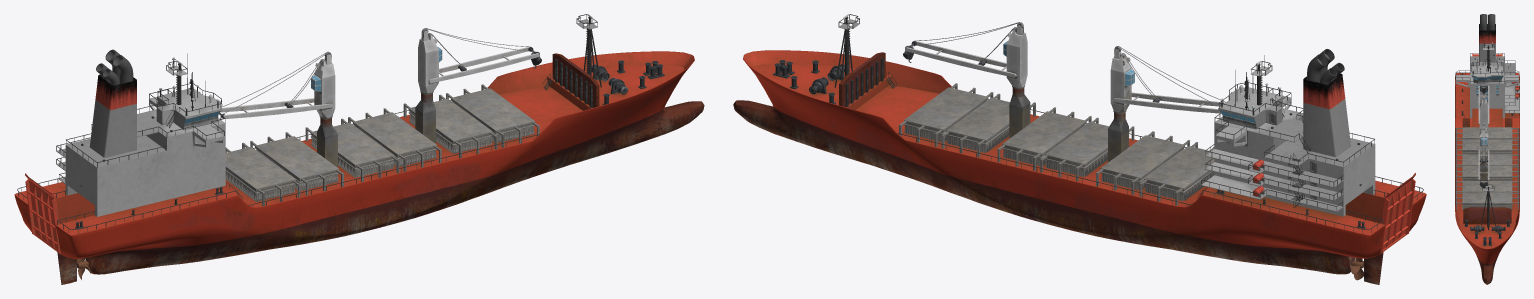
File: cargo_ship.fbx
3 renders of one model, left to right at view 1: azimuth 30°, elevation 25°; view 2: azimuth 150°, elevation 25°; view 3: azimuth 270°, elevation 25°, orthographic. The views are drawn at different scales.
Visible parts, largest first — view 1: Object_9, Object_7, Object_8, Object_3, Object_6, Object_5, Object_2, Object_4; view 2: Object_9, Object_7, Object_8, Object_3, Object_6, Object_5, Object_2, Object_4; view 3: Object_7, Object_9, Object_8, Object_3, Object_6, Object_2, Object_5, Object_4.
Boxes of the visible parts, x1,y1,x2,y2 form: Object_9: (14, 51, 704, 284); Object_7: (66, 88, 534, 201); Object_8: (65, 28, 664, 216); Object_3: (17, 14, 597, 253); Object_6: (76, 16, 611, 228); Object_5: (75, 14, 601, 228); Object_2: (18, 15, 597, 233); Object_4: (28, 19, 597, 251); Object_9: (733, 50, 1426, 284); Object_7: (904, 87, 1374, 200); Object_8: (773, 22, 1375, 216); Object_3: (838, 14, 1423, 253); Object_6: (845, 16, 1364, 227); Object_5: (834, 14, 1365, 228); Object_2: (838, 15, 1422, 233); Object_4: (838, 19, 1412, 251); Object_7: (1462, 56, 1512, 209); Object_9: (1455, 73, 1519, 284); Object_8: (1455, 80, 1519, 246); Object_3: (1455, 14, 1519, 204); Object_6: (1456, 40, 1518, 227); Object_2: (1455, 45, 1519, 190); Object_5: (1455, 44, 1518, 230); Object_4: (1482, 46, 1494, 191).
Bounding box in the file's own units: 12707 × 3975 × 1926.
Materials: 3 (3 with a texture image).
